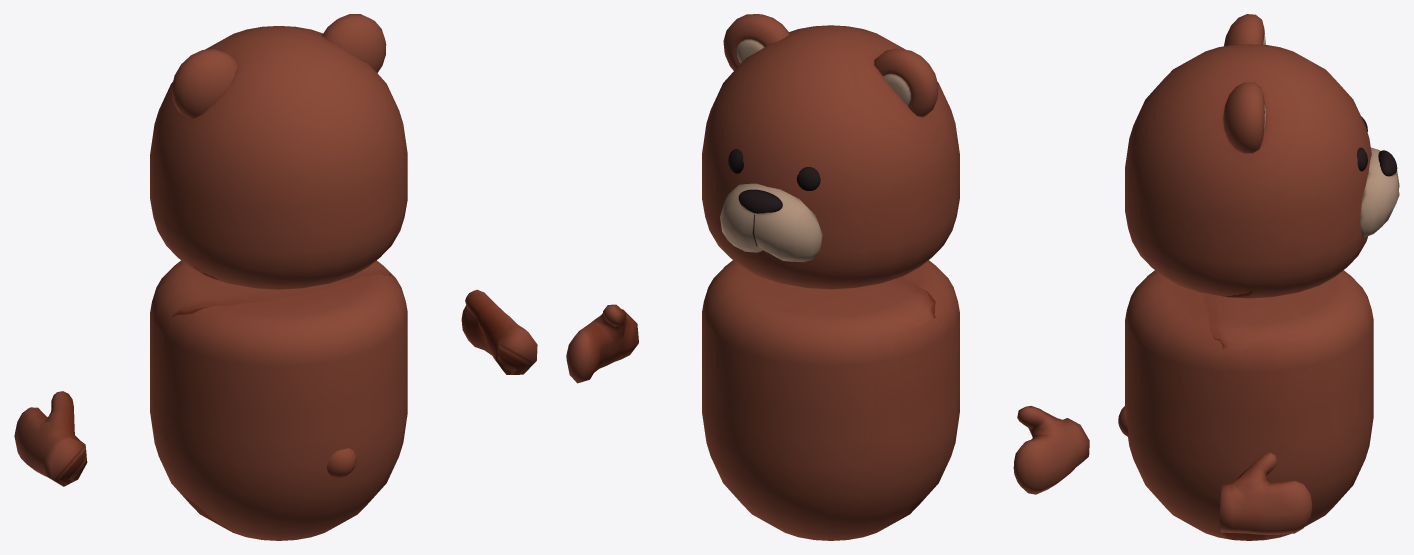
File: brown-bear.glb
3 renders of one model, left to right at view 1: azimuth 30°, elevation 25°; view 2: azimuth 150°, elevation 25°; view 3: azimuth 270°, elevation 25°, orthographic. The views are drawn at different scales.
Visible parts, largest first — view 1: body, head, hand-left, hand-right; view 2: body, head, hand-left, hand-right; view 3: head, body, hand-right.
Part boxes in pixels (left/top/right/bottom): body: left=150, top=260, right=407, bottom=540; head: left=150, top=14, right=407, bottom=289; hand-left: left=14, top=391, right=87, bottom=486; hand-right: left=461, top=289, right=537, bottom=374; body: left=702, top=260, right=959, bottom=540; head: left=702, top=14, right=959, bottom=289; hand-left: left=1013, top=406, right=1089, bottom=494; hand-right: left=566, top=304, right=638, bottom=383; head: left=1125, top=14, right=1399, bottom=298; body: left=1118, top=270, right=1373, bottom=540; hand-right: left=1219, top=452, right=1312, bottom=534.
Size of the model in its own units: 1.37 by 1.33 by 0.7104.
2 materials, 2 textured.
